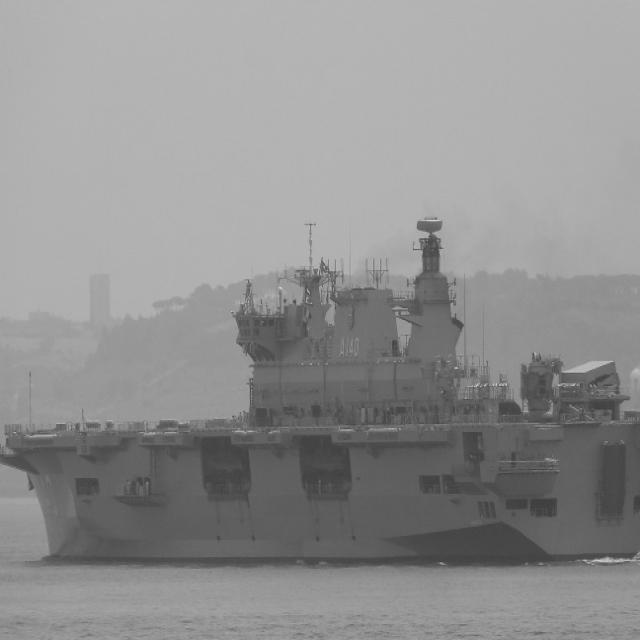Portanaves: (1, 211, 640, 569)
